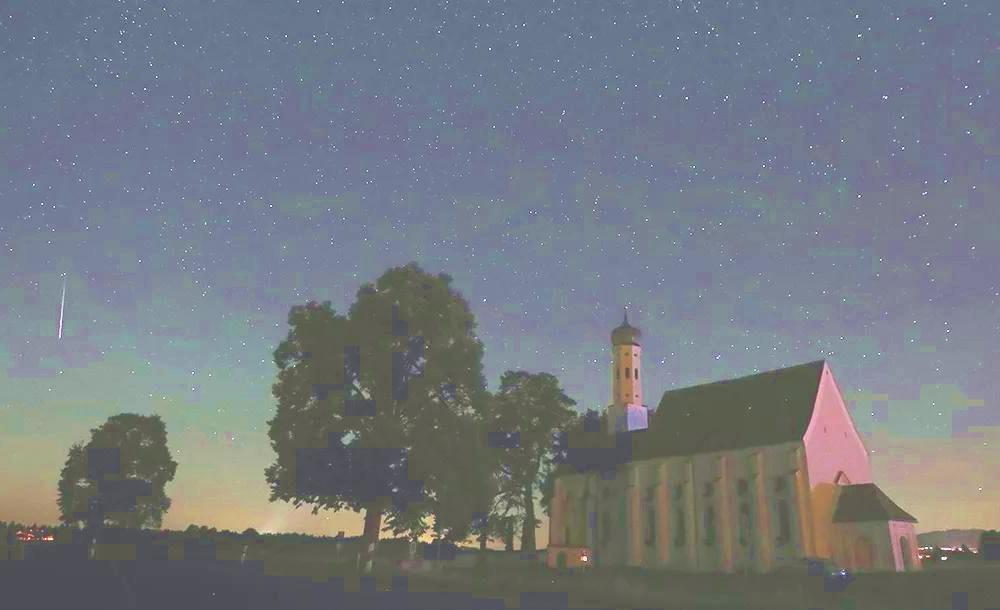meteorite: (46, 269, 78, 342)
